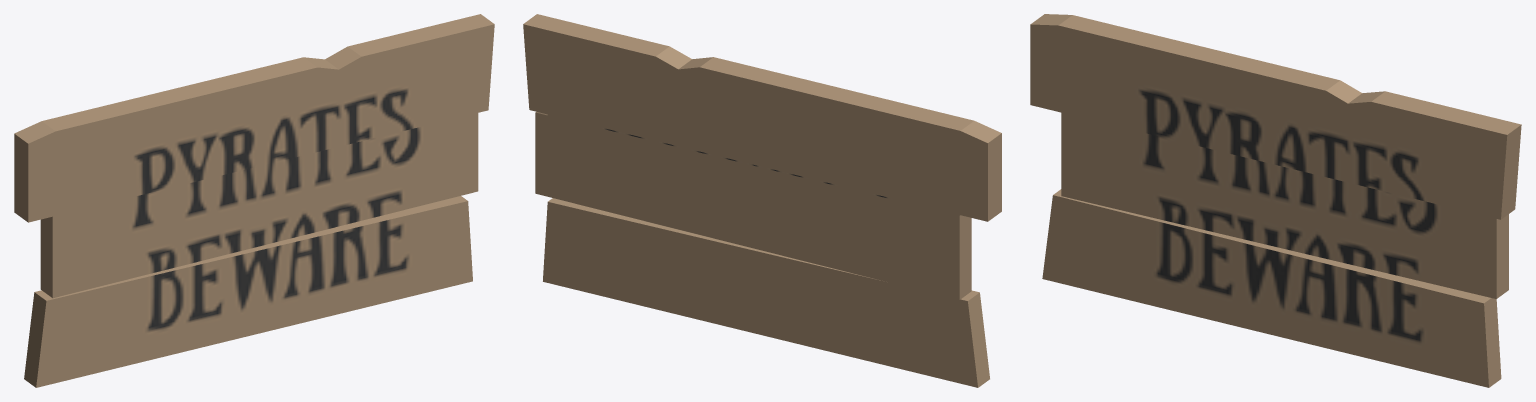
The model's file is Sign.fbx.
3 views of the same model, side by side, from view 1: azimuth 30°, elevation 25°; view 2: azimuth 150°, elevation 25°; view 3: azimuth 330°, elevation 25° (orthographic). The views are drawn at different scales.
Visible parts, largest first — view 1: Sign; view 2: Sign; view 3: Sign.
Boxes of the visible parts, <box> form: Sign: <box>14,14,494,387</box>; Sign: <box>523,14,1001,387</box>; Sign: <box>1030,14,1521,387</box>.
Bounding box in the file's own units: 82.24 × 42.73 × 4.6.
1 material, 1 textured.
